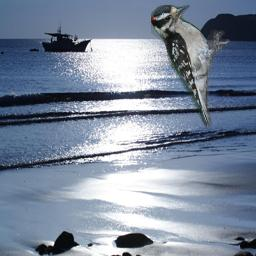Woodpecker: (151, 5, 230, 129)
